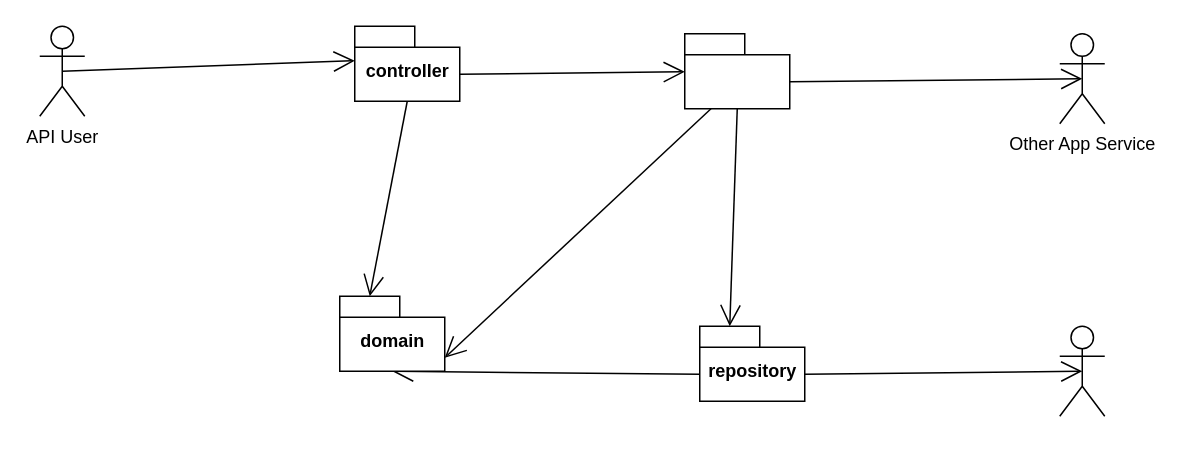
Some shapes in this 1181 by 474 pixel diagram are drawn without their labels. Each missing label, with the box of its shape:
Database: (1058, 325, 1105, 416)
service: (683, 32, 790, 109)
